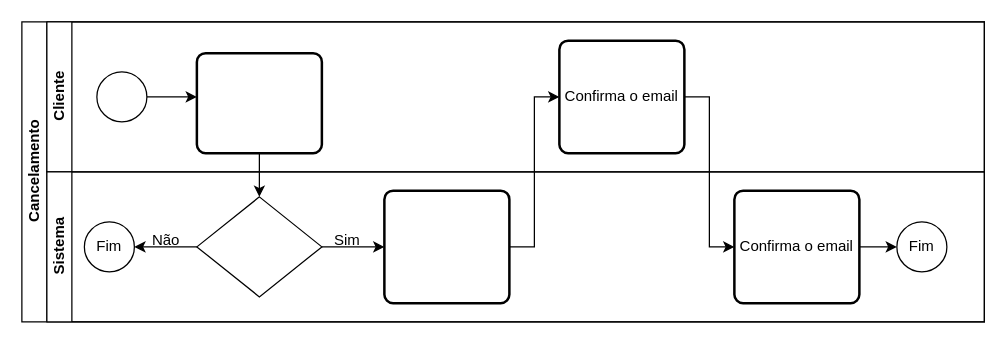
The diagram is 1006 pixels wide and 344 high, and some of its shapes have lost their labels. Each missing label, with the centre of its shape:
Envia email de confirmação: point (446, 246)
Solicita o cancelamento da licença: point (258, 102)
Valida se o usuário possui uma licença: point (259, 246)
